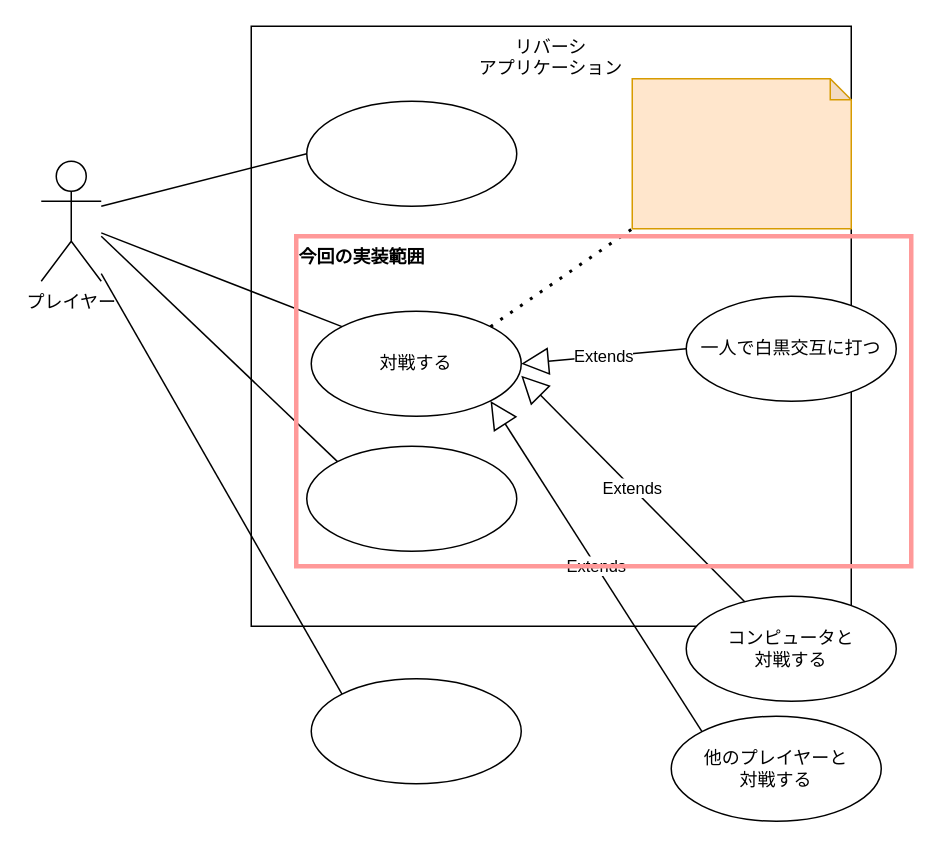
The diagram is 939 pixels wide and 848 high, and some of its shapes have lost their labels. Here are the shapes that lost their labels. From the top down, the centre of each, then its label:
(411,153): 会員登録 ログインする
(741,153): 対戦を開始する 盤面を見る 石を打つ 詳細を確認する
(411,498): 過去の対戦結果を確認
(415,730): プレイヤーの ランキングを 確認する
